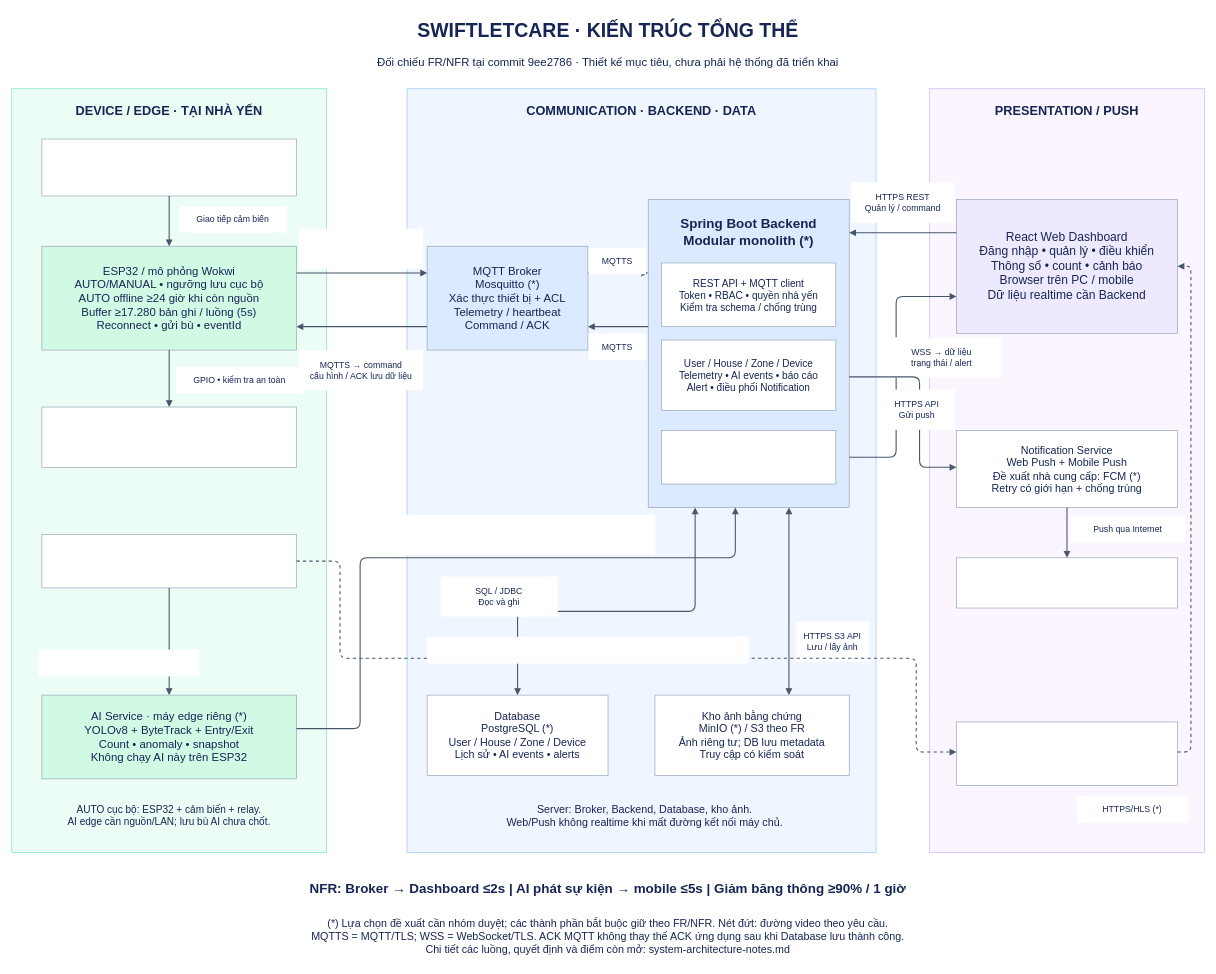
Some shapes in this 1216 by 974 pixel diagram are drawn without their labels. Each missing label, with the box of its shape:
Camera / video mô phỏng Nguồn hình ảnh trong LAN: (41, 534, 296, 588)
Cảm biến Nhiệt độ • độ ẩm • CO₂ • ánh sáng: (41, 138, 296, 196)
HTTPS REST → count / anomaly / snapshot Token dịch vụ • retry • eventId: (393, 515, 655, 555)
Media gateway (*) Live View khi được yêu cầu Kiểm tra quyền trước mở phiên: (956, 721, 1178, 786)
MQTTS → telemetry heartbeat / ACK / gửi bù: (299, 228, 423, 269)
Relay → thiết bị chấp hành Phun sương • quạt • sưởi • loa: (41, 406, 296, 467)
RTSP / frame trong LAN: (38, 649, 199, 676)
RTSP tới gateway · chỉ khi có phiên Live View (*): (427, 636, 748, 663)
Trình duyệt / thiết bị di động Nhận thông báo đã đăng ký: (956, 557, 1178, 608)
WebSocket endpoint Telemetry • ACK • alert: (661, 430, 836, 484)
